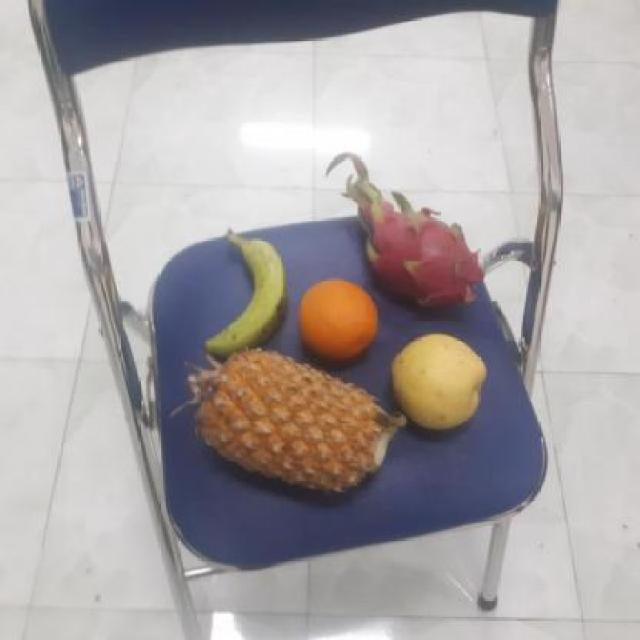dragon fruit: (349, 199, 480, 316)
oren: (293, 276, 381, 364)
pear: (387, 334, 490, 431)
pineapple: (185, 353, 392, 498)
